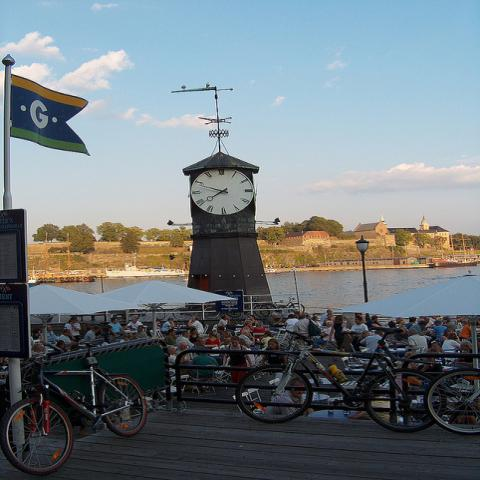car: (161, 269, 175, 273), (70, 270, 82, 273), (69, 272, 78, 274), (296, 266, 300, 268)
